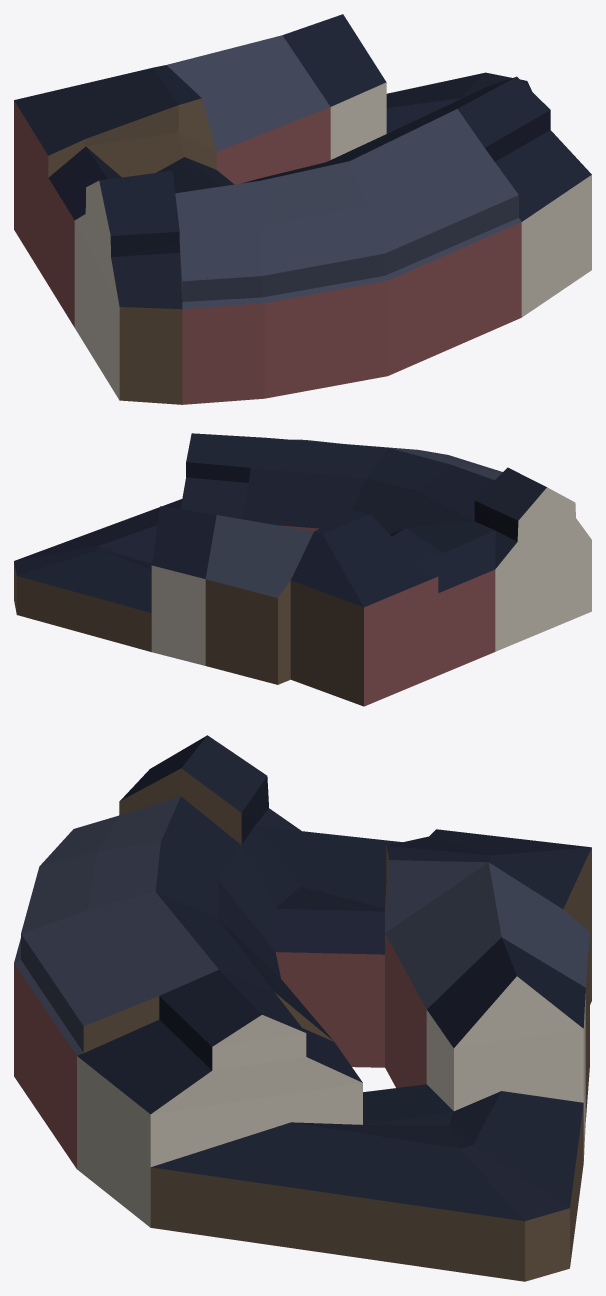
File: Building_06.fbx
3 views of the same model, one above another, from view 1: azimuth 30°, elevation 25°; view 2: azimuth 150°, elevation 25°; view 3: azimuth 270°, elevation 25° (orthographic). The views are drawn at different scales.
Parts seen in each view (by area): view 1: Building_06; view 2: Building_06; view 3: Building_06.
Part boxes in pixels (x1,y1,x2,y2): Building_06: [14, 14, 591, 404]; Building_06: [14, 433, 591, 706]; Building_06: [14, 735, 591, 1281].
Bounding box in the file's own units: 47.79 × 14.86 × 34.71.
